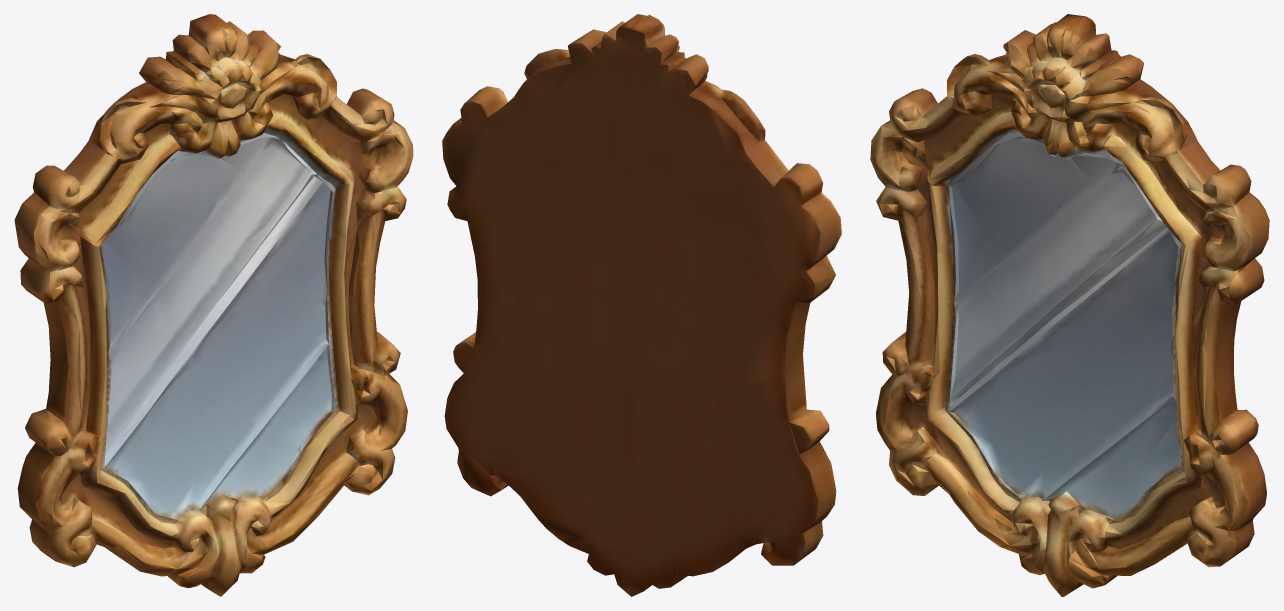
The model's file is wall13.glb.
The picture shows the model from 3 angles, left to right: view 1: azimuth 30°, elevation 25°; view 2: azimuth 150°, elevation 25°; view 3: azimuth 330°, elevation 25°; orthographic projection.
Bounding box in the file's own units: 0.2077 × 0.2987 × 0.0334.
Materials: 1 (1 with a texture image).
